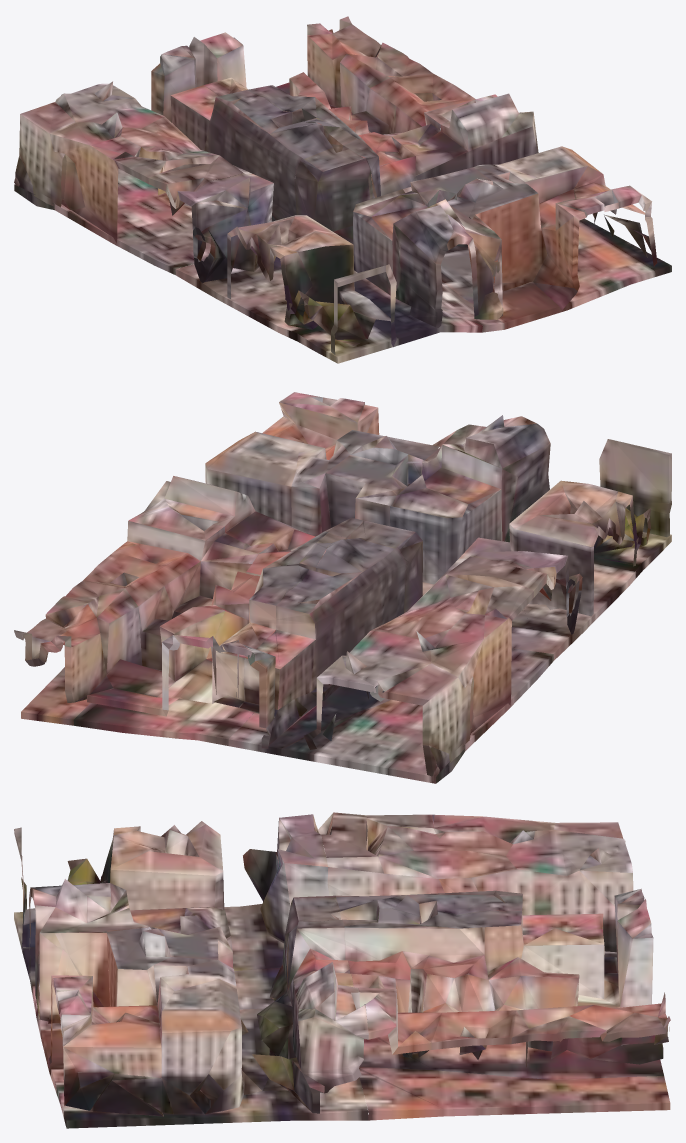
The picture shows the model from 3 angles, top to bottom: view 1: azimuth 30°, elevation 25°; view 2: azimuth 150°, elevation 25°; view 3: azimuth 270°, elevation 25°; orthographic projection. The views are drawn at different scales.
Visible parts, largest first — view 1: Mesh_0; view 2: Mesh_0; view 3: Mesh_0.
Boxes of the visible parts, bbox=[...] form: Mesh_0: bbox=[14, 16, 671, 363]; Mesh_0: bbox=[14, 392, 671, 783]; Mesh_0: bbox=[14, 812, 670, 1128].
Bounding box in the file's own units: 133 × 38.06 × 165.
1 material, 1 textured.
